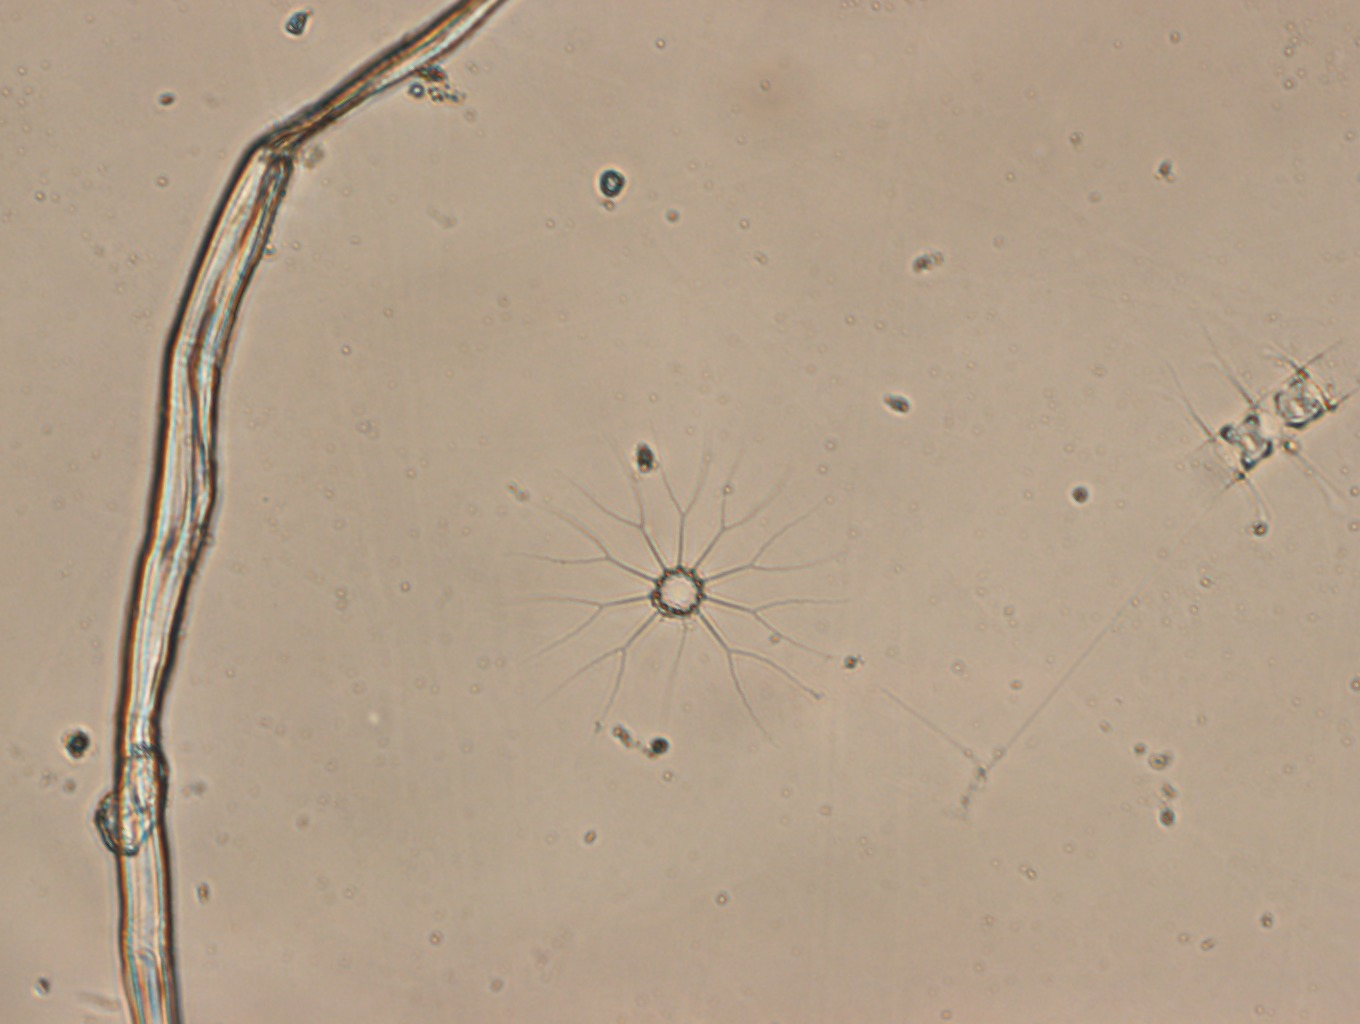bacteriastrum: (518, 431, 847, 751)
chaetoceros: (1162, 314, 1360, 527)
